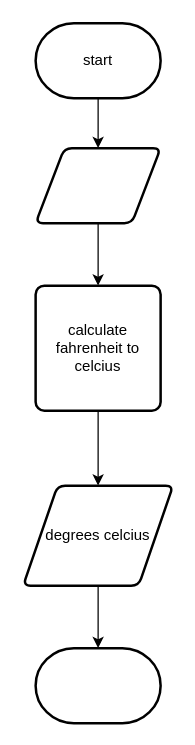
This 195x745 diagram has some shape labels left out. The shapes that lost their labels are listed below. From the top down, each one's box as (x1, y1, x2, y2) in pixels, then its label:
(34, 146, 161, 224): degrees fahrenheit
(34, 646, 161, 724): stop
